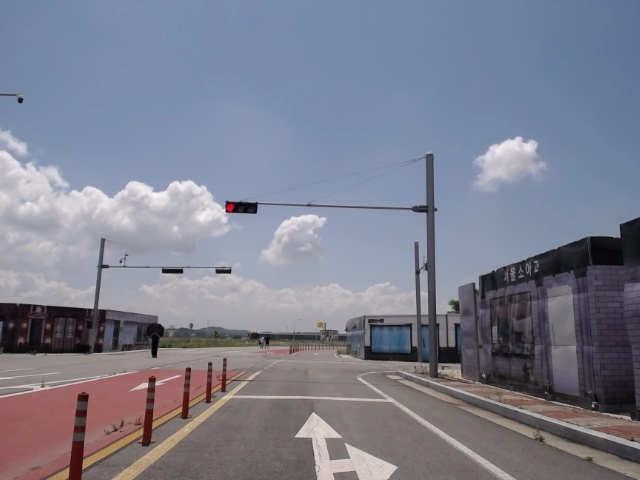red_3: (225, 201, 258, 214)
